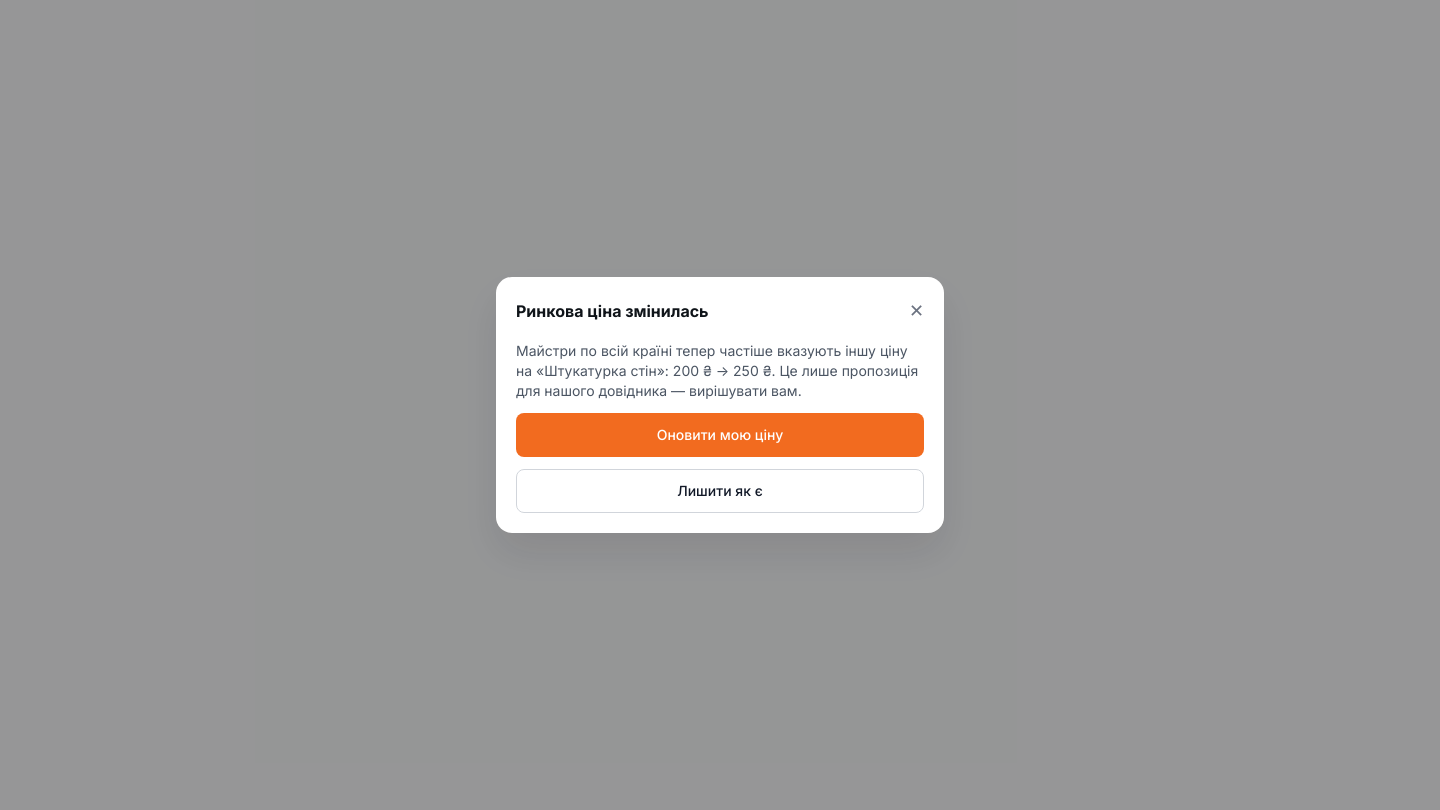
Test: CatalogUpdateNotice › confirming the ✕ closes EVERY queued price offer, not just the one on screen
Expected: the heading "Ринкова ціна змінилась" is shown, left=516, top=299, right=709, bottom=323
Click the button "✕" at (916, 311), box left=909, top=297, right=924, bottom=325
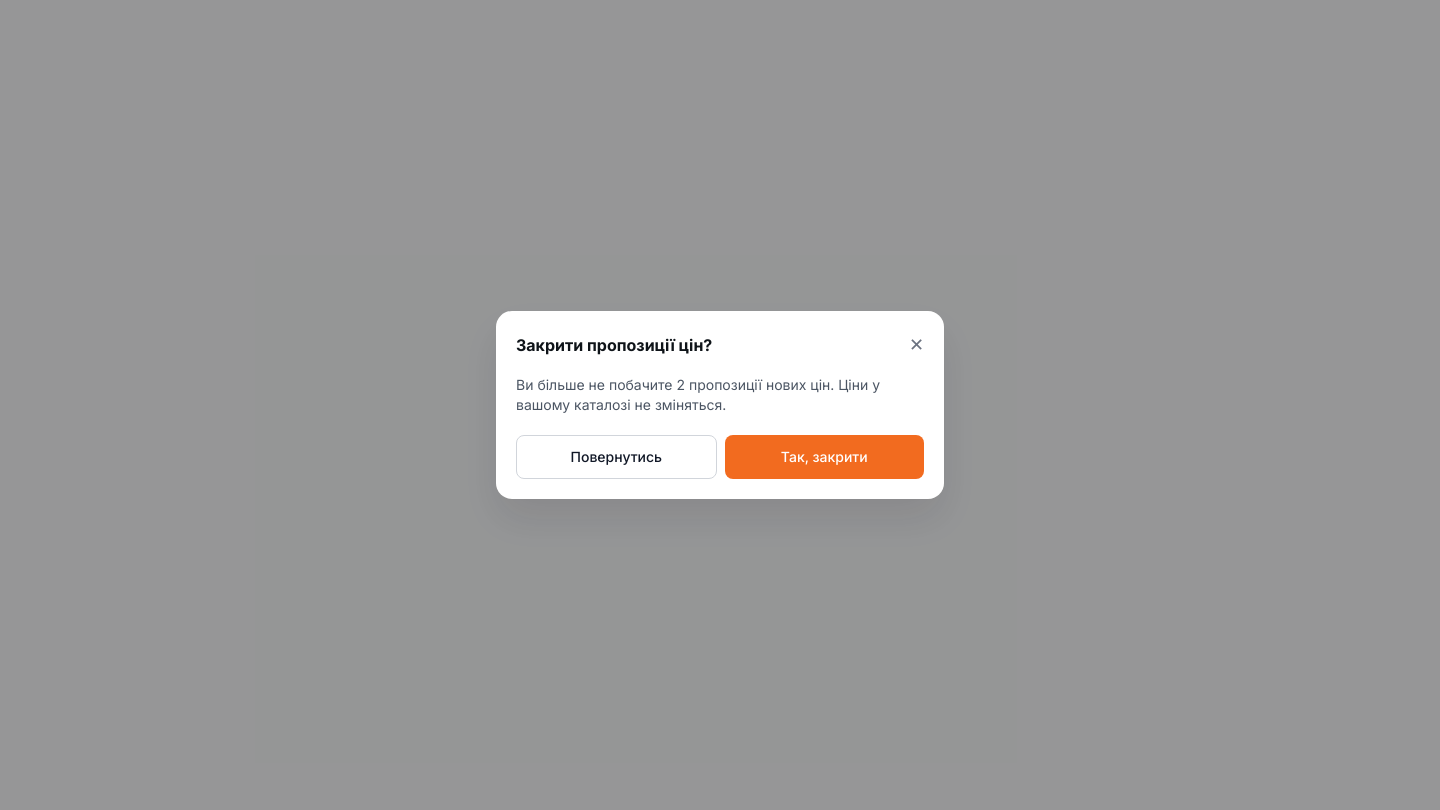
Expected: the text "2 пропозиції нових цін" is shown, left=516, top=376, right=880, bottom=413
Click the button "Так, закрити" at (824, 457), box left=724, top=435, right=924, bottom=479
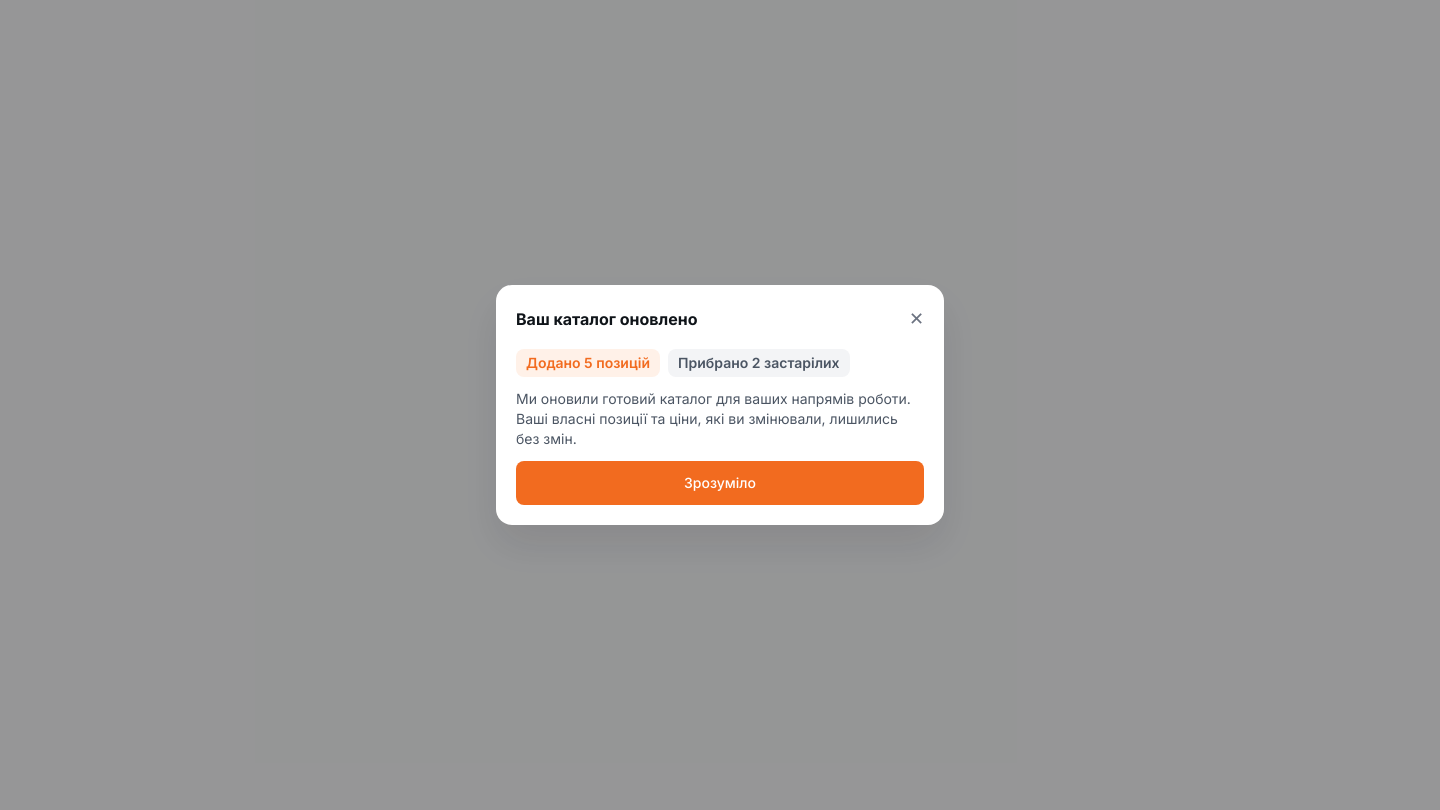
Expected: the heading "Ваш каталог оновлено" is shown, left=516, top=307, right=698, bottom=331
